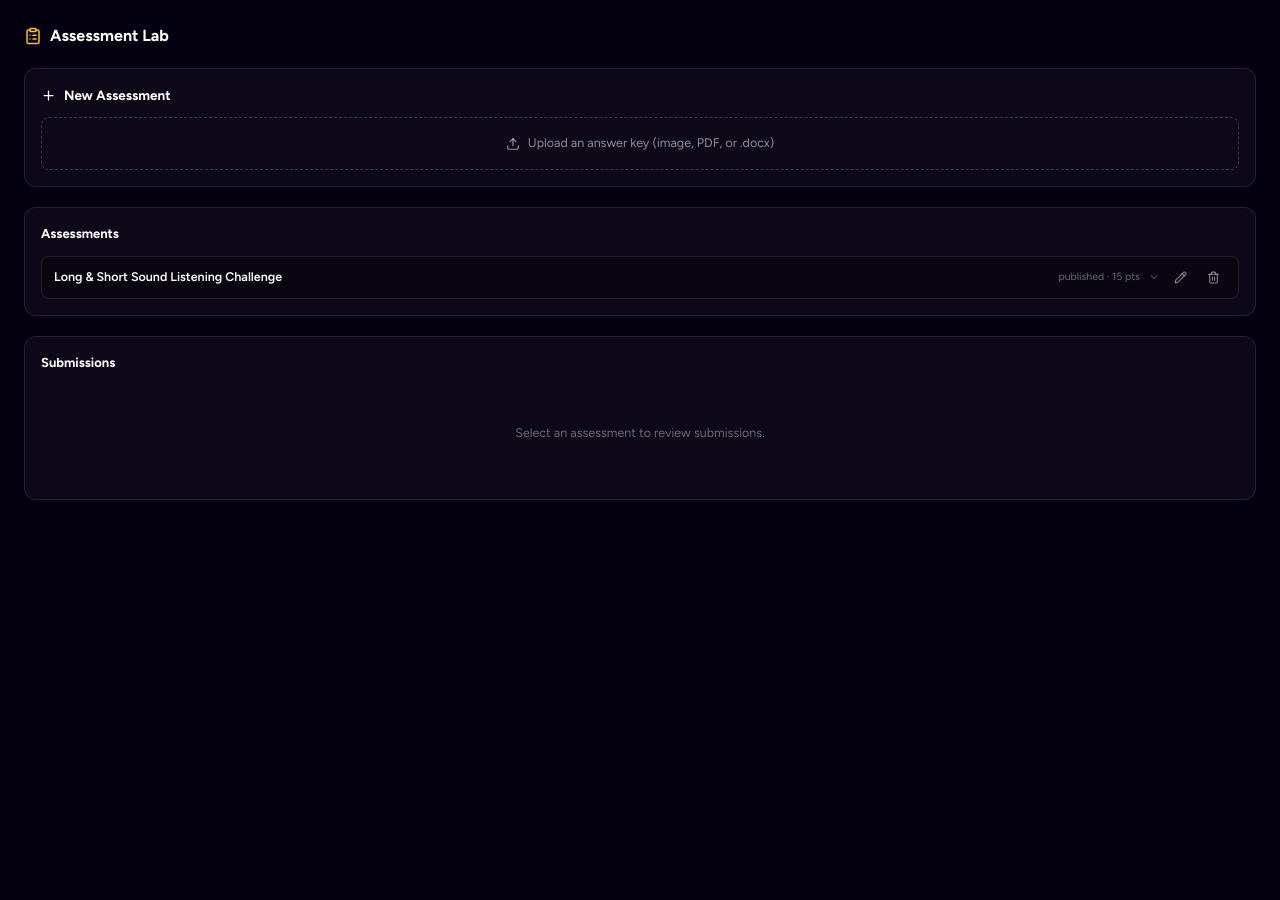
Test case: bulk-select shows a 'N selected' bar and bulk-awards only the checked rows
The image size is (1280, 900).
Click the text "Long & Short Sound Listening Challenge". click: (168, 277)
box: [54,268,282,286]
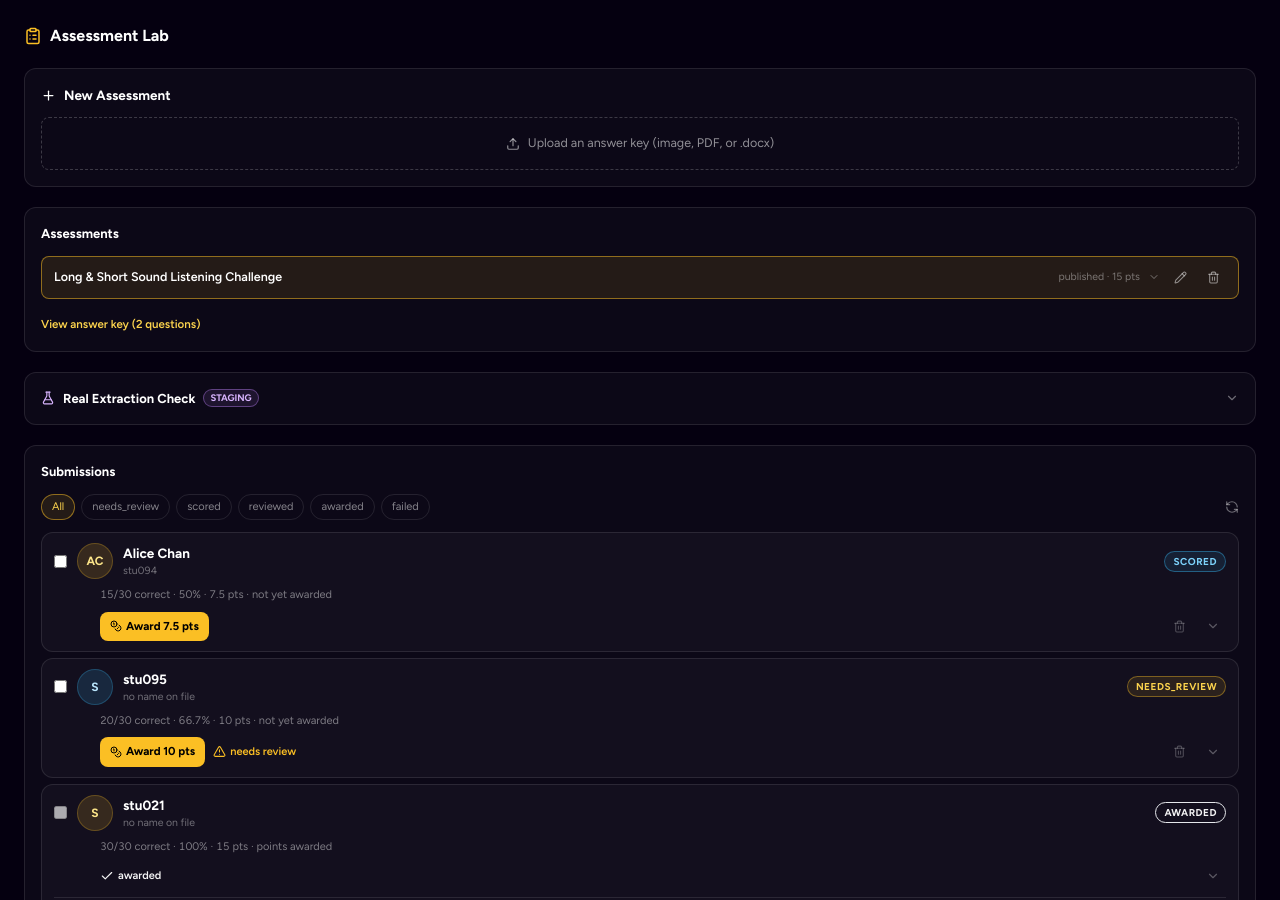
expect the text "stu094" is shown: met, box [123,564,157,577]
expect the 1st checkbox with test id "assessment-submission-checkbox" is enabled: met
expect the 2nd checkbox with test id "assessment-submission-checkbox" is enabled: met, box [54,680,67,693]
Click the 1st checkbox with test id "assessment-submission-checkbox". click: (60, 561)
box: [54,554,67,568]
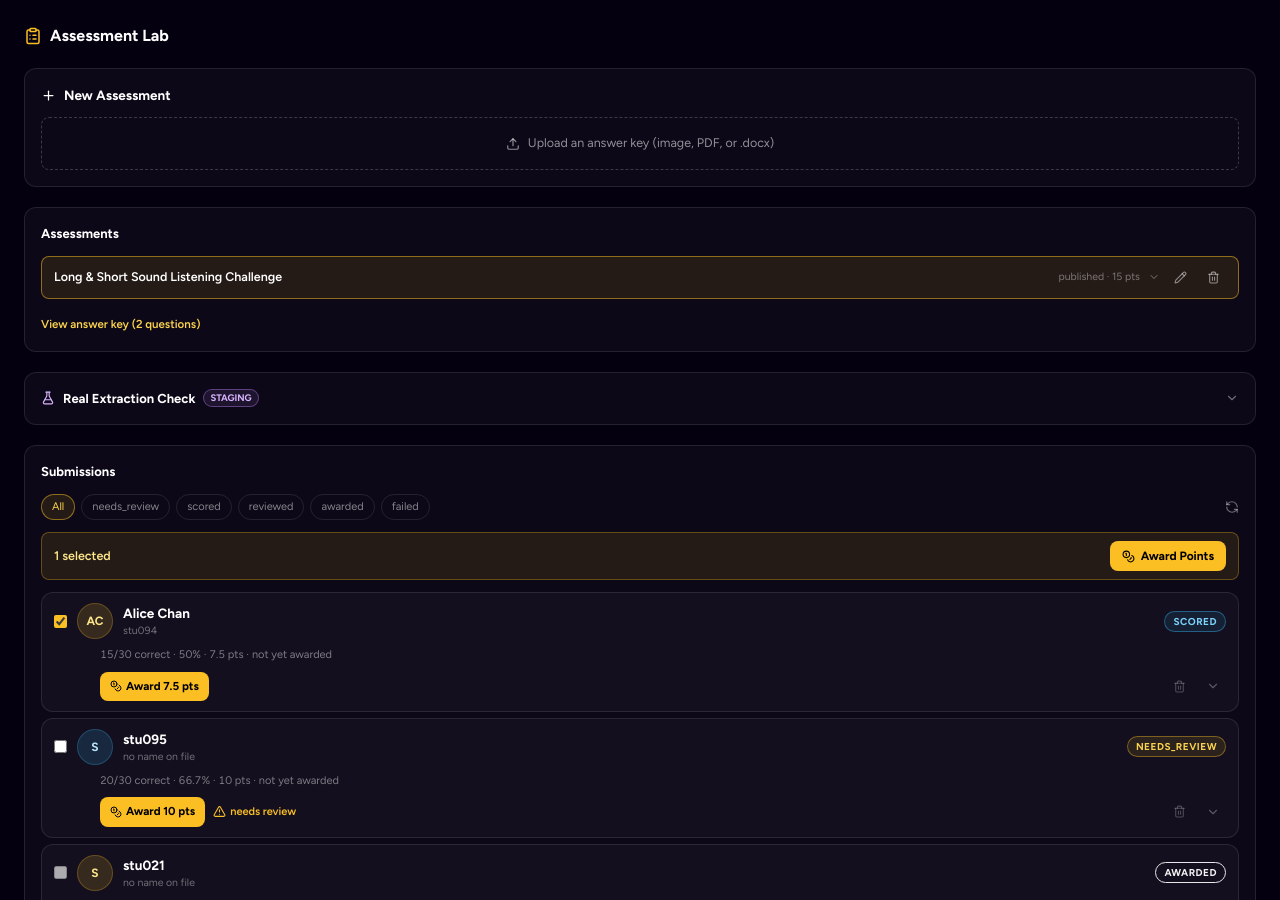
expect the element with test id "assessment-bulk-award-bar" shows "1 selected": met, box [41,532,1239,580]
Click the button with test id "assessment-bulk-award-button". click: (1168, 556)
box: [1110,541,1226,571]
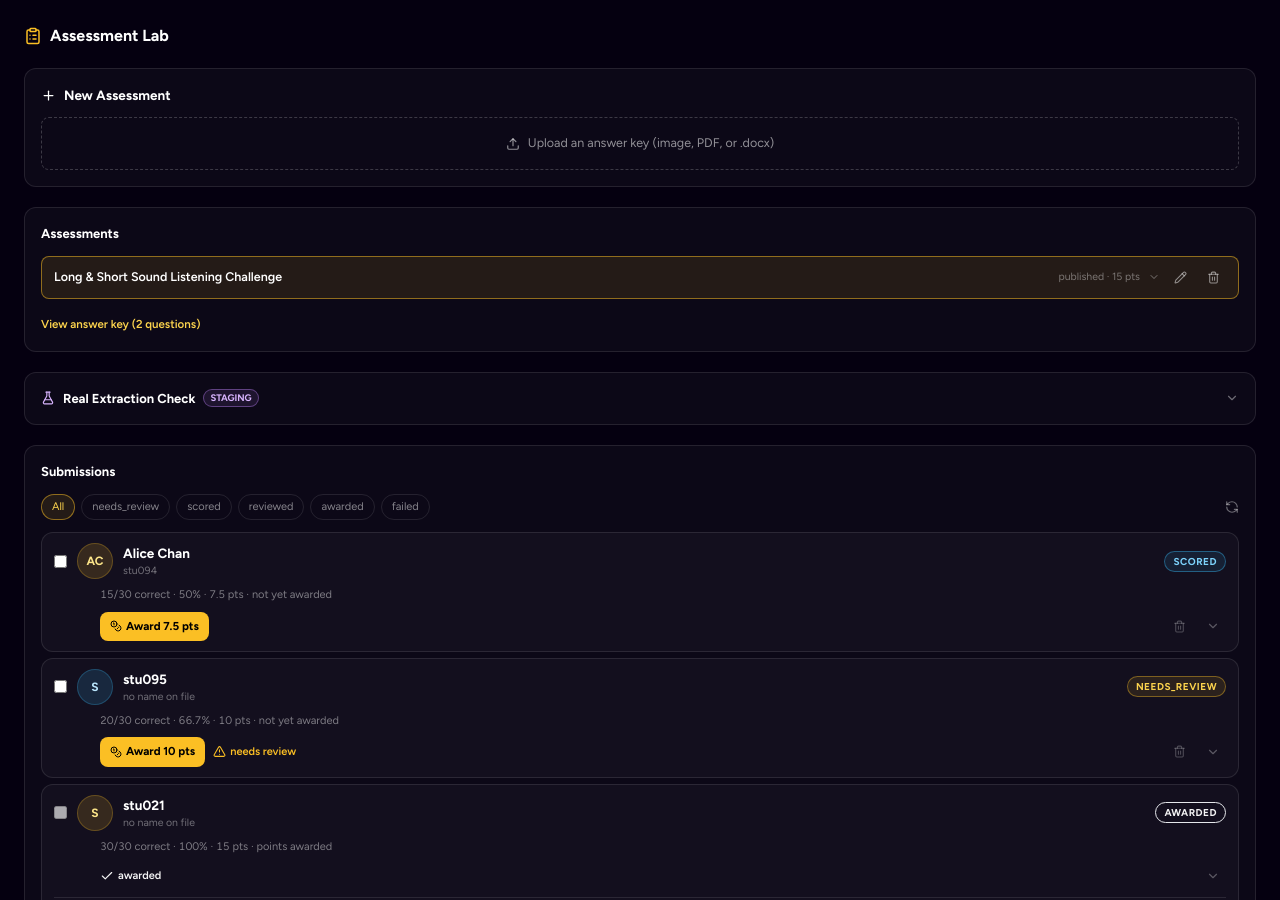
expect the element with test id "assessment-bulk-award-bar" is gone: met
